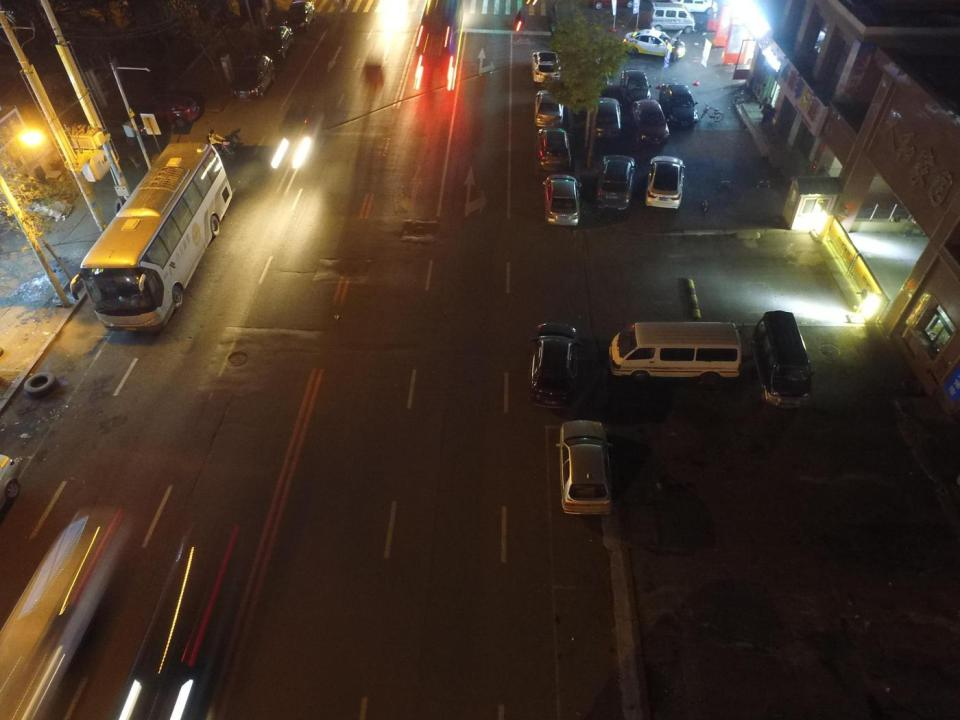bus: (70, 140, 232, 333)
car: (4, 516, 118, 719), (121, 630, 204, 720), (558, 420, 611, 514), (529, 322, 581, 407), (127, 88, 199, 128), (591, 154, 637, 209), (417, 0, 463, 53), (646, 154, 684, 214), (234, 55, 278, 99), (624, 30, 684, 61), (543, 174, 580, 222), (632, 98, 669, 145), (537, 125, 568, 177), (660, 86, 696, 128), (590, 96, 622, 142), (578, 55, 610, 92), (535, 91, 566, 126), (620, 68, 650, 104), (257, 26, 290, 56), (531, 49, 562, 80), (284, 2, 315, 23), (668, 0, 709, 12)
van: (606, 320, 740, 384), (753, 311, 808, 410), (649, 1, 693, 31)
